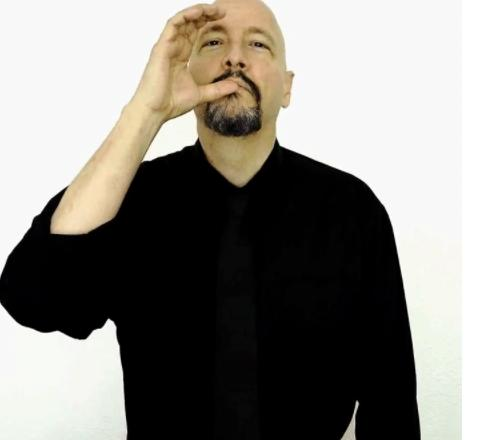drink: (141, 1, 240, 123)
